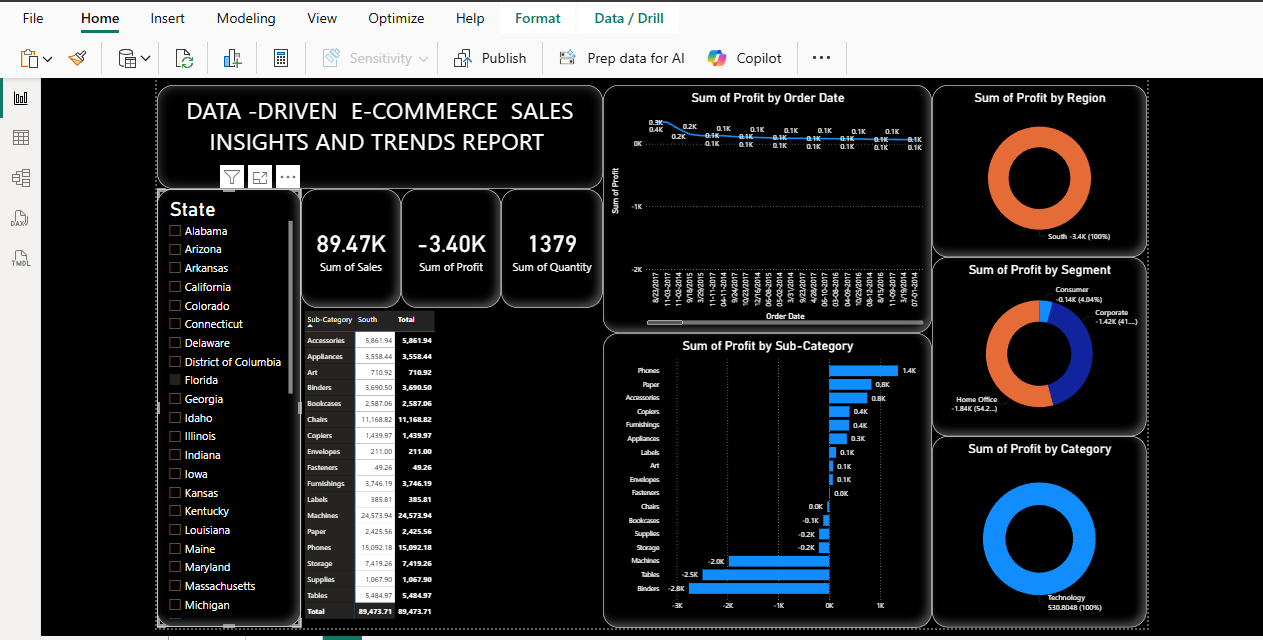

What the dashboard file says about the page in this screenshot:
{"tool":"powerbi","page":{"name":"Page 2","canvas":[1800,1000],"ordinal":1},"visuals":[{"type":"textbox","box":[0,12.7,810.9,189.1],"z":0},{"type":"donutChart","fields":{"Category":["Sample - Superstore.Category"],"Y":["Sum(Sample - Superstore.Profit)"]},"box":[1409.8,651.6,390.2,347.9],"z":1000},{"type":"donutChart","fields":{"Y":["Sum(Sample - Superstore.Profit)"],"Category":["Sample - Superstore.Segment"]},"box":[1409.8,325.8,390.2,325.8],"z":2000},{"type":"donutChart","fields":{"Y":["Sum(Sample - Superstore.Profit)"],"Category":["Sample - Superstore.Region"]},"box":[1409.1,12.7,390.9,312.7],"z":3000},{"type":"barChart","title":"Sum of Profit by Sub-Category","fields":{"Category":["Sample - Superstore.Sub-Category"],"Y":["Sum(Sample - Superstore.Profit)"]},"box":[810.9,463.6,598.2,536.4],"z":4000},{"type":"lineChart","fields":{"Category":["Sample - Superstore.Order Date"],"Y":["Sum(Sample - Superstore.Profit)"]},"box":[810.9,12.7,598.2,450.9],"z":5000},{"type":"slicer","fields":{"Values":["Sample - Superstore.State"]},"box":[0,201.8,261.8,796.4],"z":6000},{"type":"pivotTable","fields":{"Rows":["Sample - Superstore.Sub-Category"],"Columns":["Sample - Superstore.Region"],"Values":["Sum(Sample - Superstore.Sales)"]},"box":[263.6,418.2,540,580],"z":7000},{"type":"card","fields":{"Values":["Sum(Sample - Superstore.Sales)"]},"box":[261.8,201.8,181.8,216.4],"z":8000},{"type":"card","fields":{"Values":["Sum(Sample - Superstore.Profit)"]},"box":[443.6,201.8,181.8,216.4],"z":9000},{"type":"card","fields":{"Values":["Sum(Sample - Superstore.Quantity)"]},"box":[625.5,201.8,185.5,216.4],"z":10000}]}

Visuals, with their boxes on the page's 1800x1000 design canvas (x1, y1, x2, y2). These are canvas units, not pixel positions in the 1263x640 screenshot, which may show the page scaled, cropped or inside an application window:
textbox: select_region(0, 13, 811, 202)
donutChart - Sample - Superstore.Category x Sum(Sample - Superstore.Profit): select_region(1410, 652, 1800, 1000)
donutChart - Sum(Sample - Superstore.Profit) x Sample - Superstore.Segment: select_region(1410, 326, 1800, 652)
donutChart - Sum(Sample - Superstore.Profit) x Sample - Superstore.Region: select_region(1409, 13, 1800, 325)
"Sum of Profit by Sub-Category" barChart: select_region(811, 464, 1409, 1000)
lineChart - Sample - Superstore.Order Date x Sum(Sample - Superstore.Profit): select_region(811, 13, 1409, 464)
slicer - Sample - Superstore.State: select_region(0, 202, 262, 998)
pivotTable - Sample - Superstore.Sub-Category x Sample - Superstore.Region: select_region(264, 418, 804, 998)
card - Sum(Sample - Superstore.Sales): select_region(262, 202, 444, 418)
card - Sum(Sample - Superstore.Profit): select_region(444, 202, 625, 418)
card - Sum(Sample - Superstore.Quantity): select_region(626, 202, 811, 418)
